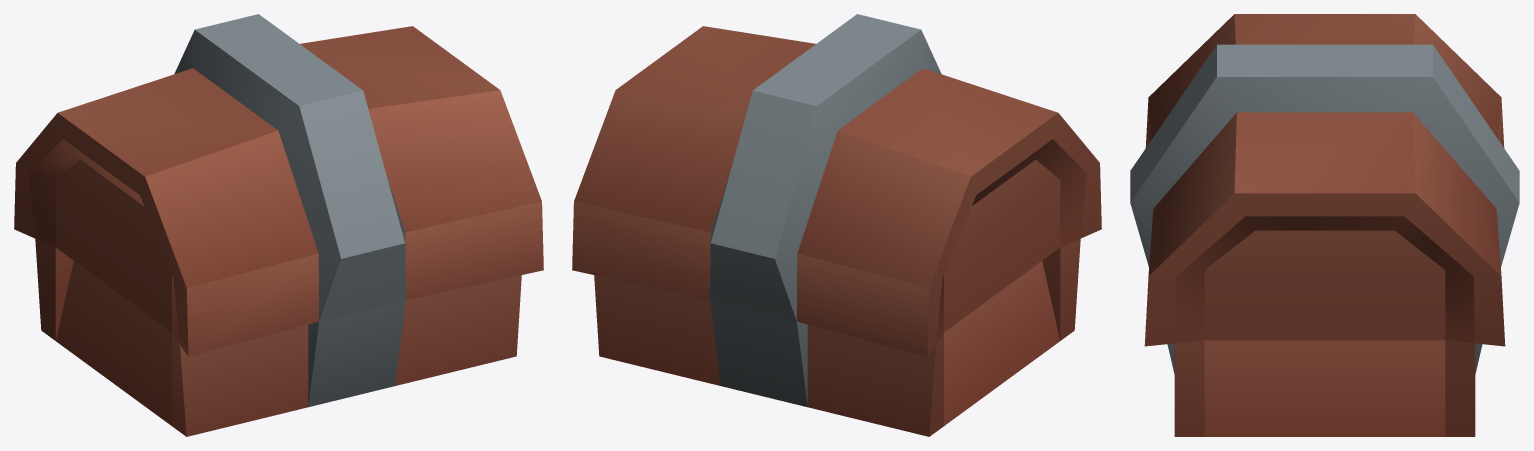
Rendered from trunk_medium_A.gltf.
3 views of the same model, side by side, from view 1: azimuth 30°, elevation 25°; view 2: azimuth 150°, elevation 25°; view 3: azimuth 270°, elevation 25° (orthographic). The views are drawn at different scales.
Visible parts, largest first — view 1: trunk_medium_A; view 2: trunk_medium_A; view 3: trunk_medium_A.
Boxes of the visible parts, x1=… form: trunk_medium_A: x1=14, y1=14, x2=543, y2=436; trunk_medium_A: x1=572, y1=14, x2=1101, y2=436; trunk_medium_A: x1=1130, y1=14, x2=1519, y2=436.
Size of the model in its own units: 0.953 by 0.7265 by 0.8751.
1 material, 1 textured.
